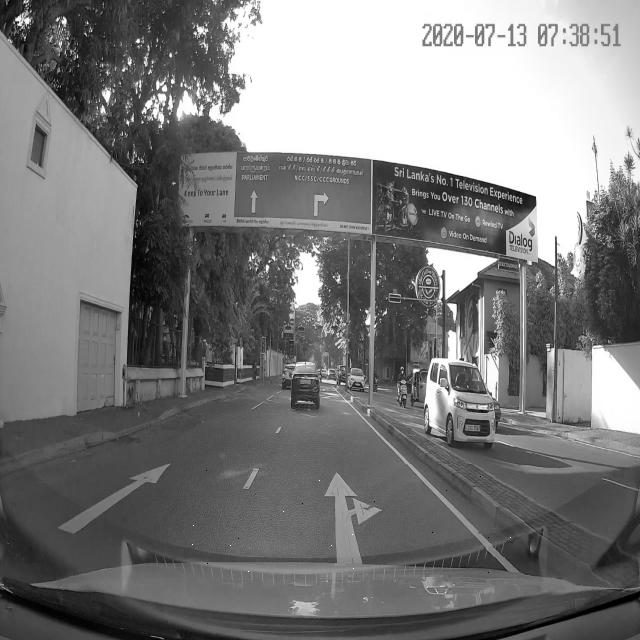forward_right: (188, 471, 523, 576), (196, 464, 493, 548), (194, 478, 505, 557), (198, 484, 492, 546), (199, 490, 476, 543)
